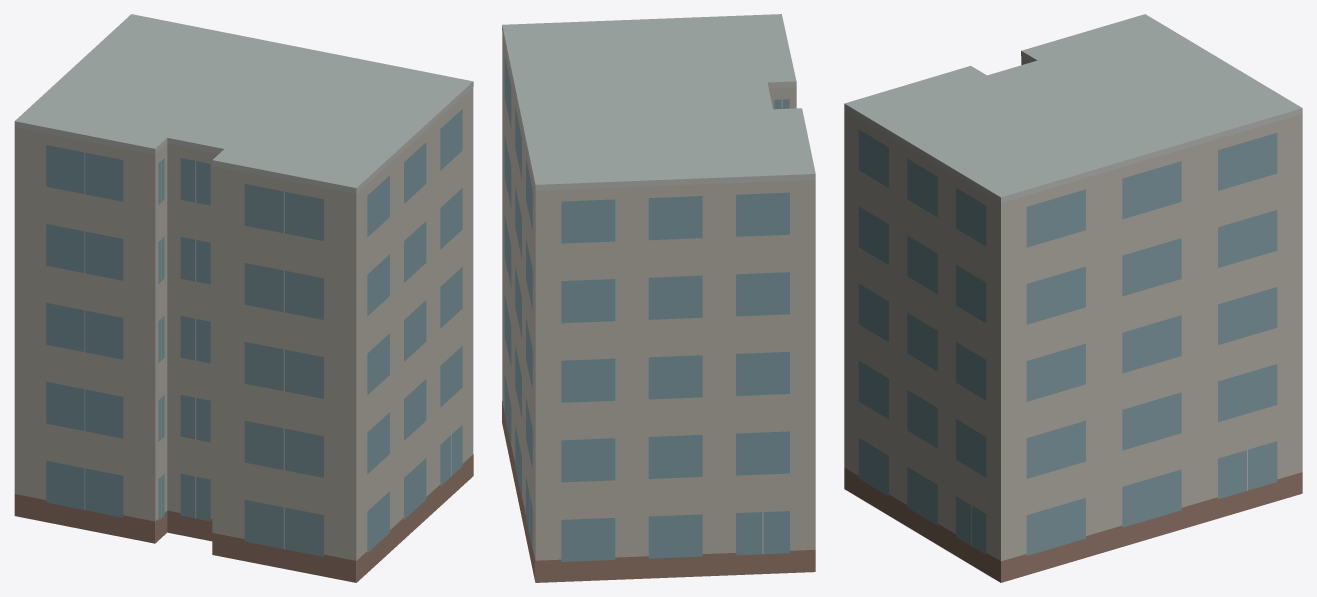
File: survey-upis-32584068.glb
3 renders of one model, left to right at view 1: azimuth 30°, elevation 25°; view 2: azimuth 150°, elevation 25°; view 3: azimuth 270°, elevation 25°, orthographic. The views are drawn at different scales.
Parts seen in each view (by area): view 1: survey-upis-32584068.tmp; view 2: survey-upis-32584068.tmp; view 3: survey-upis-32584068.tmp.
Boxes of the visible parts, x1,y1,x2,y2 form: survey-upis-32584068.tmp: (14,14,473,582); survey-upis-32584068.tmp: (502,14,815,582); survey-upis-32584068.tmp: (844,14,1302,582).
Bounding box in the file's own units: 16.95 × 16.6 × 17.9.
